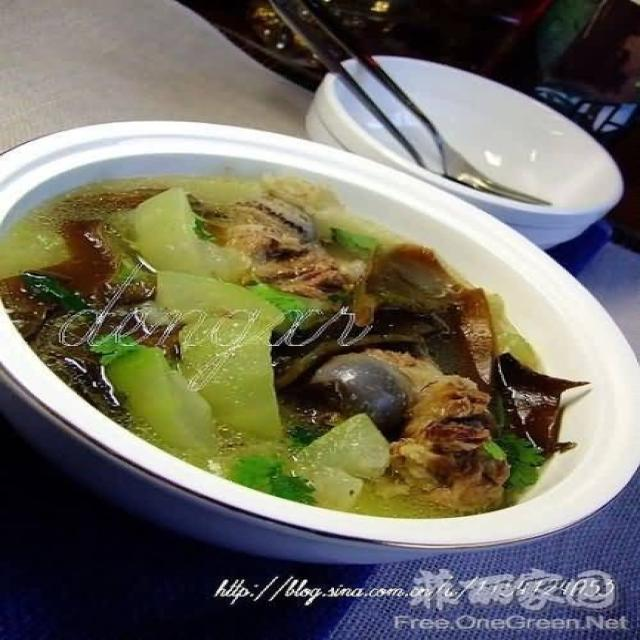汤锅炖物: (13, 63, 626, 599)
